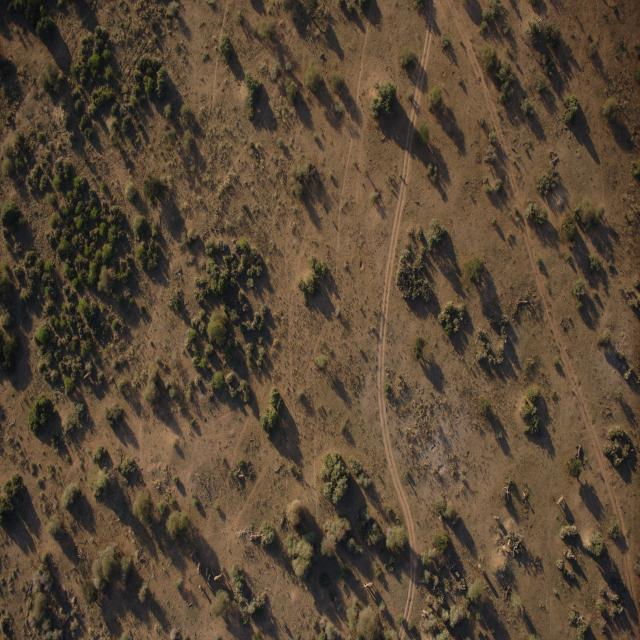elephant: (554, 493, 566, 506), (476, 562, 486, 575), (451, 514, 461, 526), (77, 326, 85, 340), (82, 370, 92, 381), (363, 580, 374, 589), (519, 604, 526, 618), (213, 572, 223, 581), (196, 561, 202, 575), (190, 549, 197, 559), (422, 608, 429, 615), (207, 573, 212, 581), (211, 570, 216, 578), (198, 584, 203, 592), (492, 515, 500, 520), (454, 572, 460, 578), (508, 538, 512, 547), (205, 566, 208, 577), (421, 614, 426, 617)
